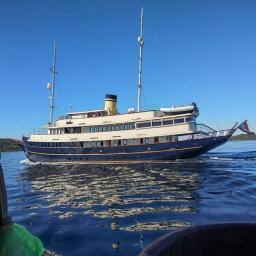cruises: (16, 91, 256, 167)
